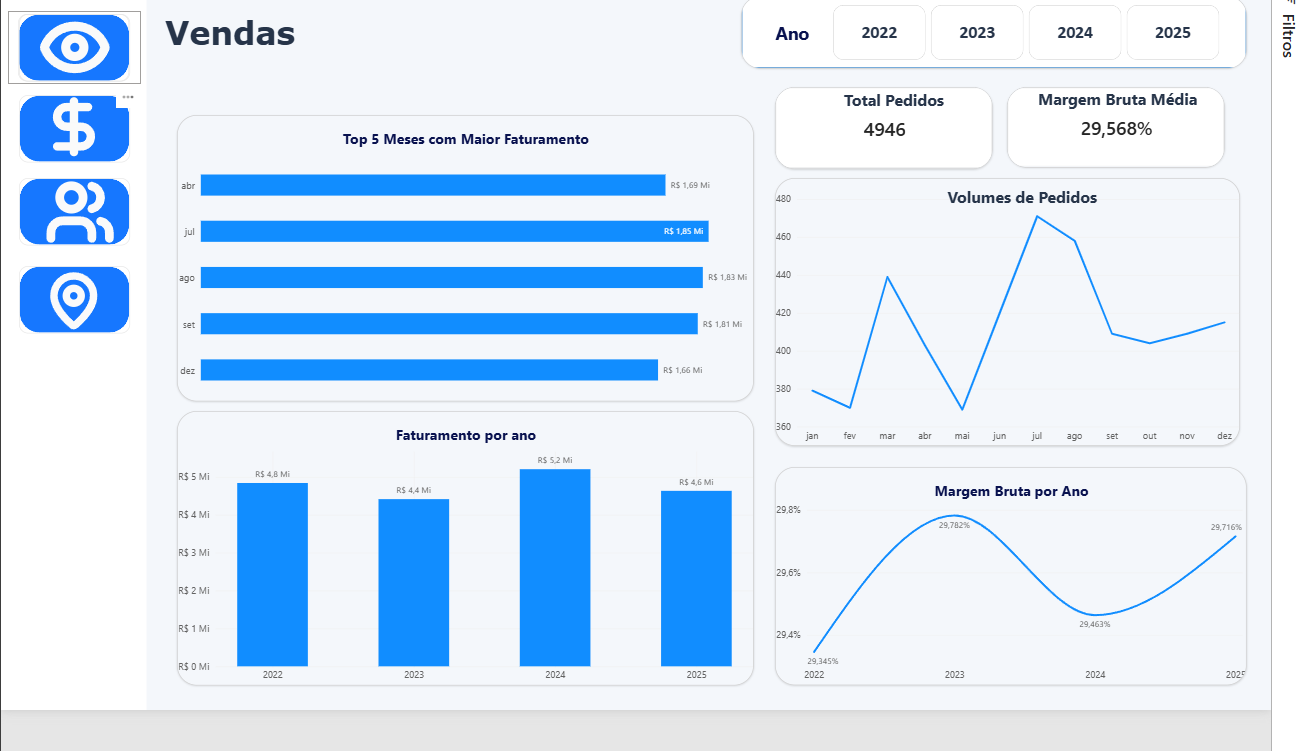

The page's visual inventory and layout, read from the dashboard file:
{"tool":"powerbi","page":{"name":"Vendas","canvas":[1920,1080],"ordinal":1},"visuals":[{"type":"cardVisual","fields":{"Data":["Medidas.Margem Bruta %"]},"box":[1521,137.6,329.3,122],"z":0},{"type":"shape","box":[1118.3,0,765,110],"z":1000},{"type":"shape","box":[0,0,220,1080],"z":2000},{"type":"actionButton","box":[26.9,275.4,167.6,101.8],"z":3000},{"type":"actionButton","box":[26.9,408.5,167.6,101.8],"z":4000},{"type":"advancedSlicerVisual","fields":{"Values":["dCalendario.Ano"]},"box":[1258.3,13.3,601.7,166.7],"z":5000},{"type":"textbox","box":[591.1,218.3,141.7,28.9],"z":6000},{"type":"lineChart","title":"Faturamento por Categoria","fields":{"Category":["dCalendario.Mes Nome"],"Y":["Medidas.Total Pedidos"]},"box":[1170,275,703.3,405],"z":7000},{"type":"textbox","box":[1240,286.7,608.3,40],"z":8000},{"type":"clusteredColumnChart","title":"Faturamento por ano","fields":{"Category":["dCalendario.Ano"],"Y":["Medidas.Faturamento Liquido Total"]},"box":[266.7,626.7,871.7,415],"z":9000},{"type":"textbox","box":[1151.7,38.3,88.3,40],"z":10000},{"type":"lineChart","title":"Margem Bruta por Ano","fields":{"Category":["dCalendario.Ano"],"Y":["Medidas.Margem Bruta %"]},"box":[1170,711.7,713.3,330],"z":11000},{"type":"clusteredBarChart","title":"Top 5  Meses com Maior Faturamento ","fields":{"Category":["dCalendario.Mes Nome"],"Y":["Medidas.Faturamento Liquido Total"]},"box":[266.7,180,871.7,433.3],"z":12000},{"type":"cardVisual","fields":{"Data":["Medidas.Total Pedidos"]},"box":[1170.8,137.6,329.3,123.7],"z":13000},{"type":"textbox","box":[1526.2,139.4,322.3,40.1],"z":14000},{"type":"actionButton","box":[25,26.7,167.6,101.8],"z":15000},{"type":"actionButton","box":[26.9,26.9,167.6,101.8],"z":16000},{"type":"actionButton","box":[26.9,149.6,167.6,101.8],"z":17000},{"type":"textbox","box":[1196.7,140,305,40],"z":18000},{"type":"image","box":[0,415,220,90],"z":19000},{"type":"image","box":[20,273.3,200,106],"z":20000},{"type":"image","box":[40,146.7,142,102],"z":21000},{"type":"image","box":[10,23.3,202,110],"z":22000},{"type":"textbox","box":[248,26,812,84],"z":23000}]}

Visuals, with their boxes on the page's 1920x1080 design canvas (x1, y1, x2, y2). These are canvas units, not pixel positions in the 1301x751 screenshot, which may show the page scaled, cropped or inside an application window:
cardVisual - Medidas.Margem Bruta %: locate(1521, 138, 1850, 260)
shape: locate(1118, 0, 1883, 110)
shape: locate(0, 0, 220, 1080)
actionButton: locate(27, 275, 194, 377)
actionButton: locate(27, 408, 194, 510)
advancedSlicerVisual - dCalendario.Ano: locate(1258, 13, 1860, 180)
textbox: locate(591, 218, 733, 247)
"Faturamento por Categoria" lineChart: locate(1170, 275, 1873, 680)
textbox: locate(1240, 287, 1848, 327)
"Faturamento por ano" clusteredColumnChart: locate(267, 627, 1138, 1042)
textbox: locate(1152, 38, 1240, 78)
"Margem Bruta por Ano" lineChart: locate(1170, 712, 1883, 1042)
"Top 5  Meses com Maior Faturamento " clusteredBarChart: locate(267, 180, 1138, 613)
cardVisual - Medidas.Total Pedidos: locate(1171, 138, 1500, 261)
textbox: locate(1526, 139, 1848, 180)
actionButton: locate(25, 27, 193, 128)
actionButton: locate(27, 27, 194, 129)
actionButton: locate(27, 150, 194, 251)
textbox: locate(1197, 140, 1502, 180)
image: locate(0, 415, 220, 505)
image: locate(20, 273, 220, 379)
image: locate(40, 147, 182, 249)
image: locate(10, 23, 212, 133)
textbox: locate(248, 26, 1060, 110)
